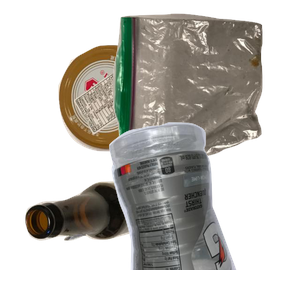glass: (23, 179, 183, 300)
metal: (56, 43, 211, 187)
plastic: (106, 120, 300, 300)
trash: (110, 11, 300, 167)
